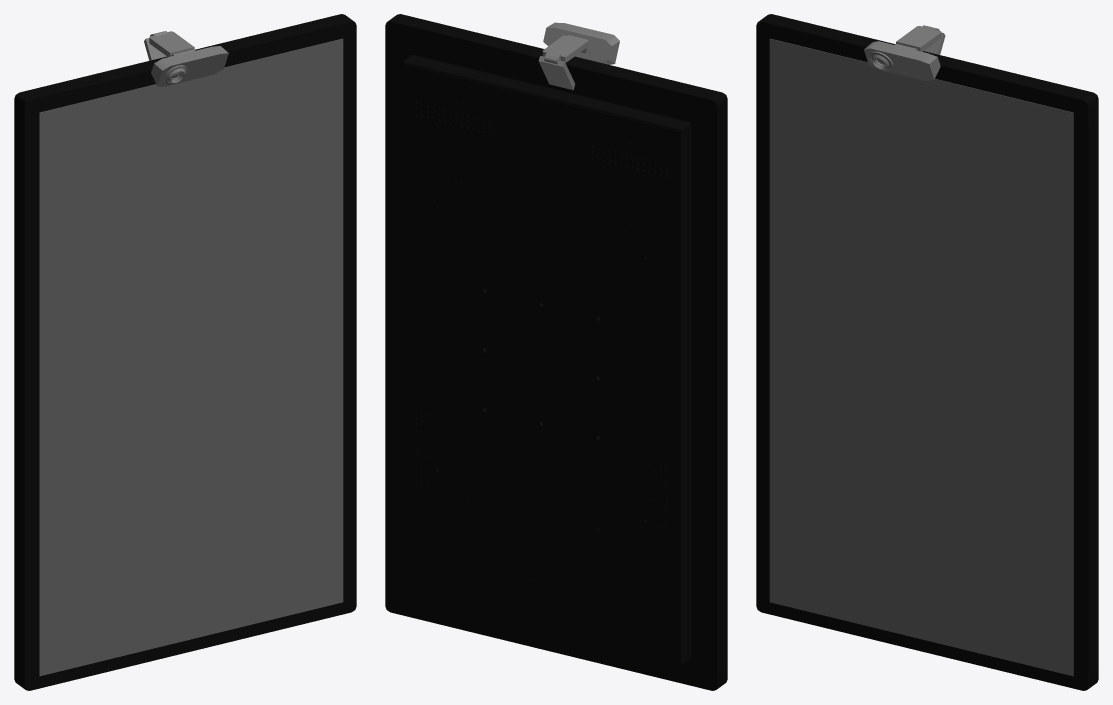
Rendered from UTC-542+camera.fbx.
3 renders of one model, left to right at view 1: azimuth 30°, elevation 25°; view 2: azimuth 150°, elevation 25°; view 3: azimuth 330°, elevation 25°, orthographic.
Parts seen in each view (by area): view 1: A, C; view 2: B, A, C; view 3: A, C.
Part boxes in pixels (x1,y1,x2,y2): A: (14,14,356,690); C: (144,31,228,86); B: (385,21,717,690); A: (387,14,727,689); C: (538,22,619,90); A: (756,14,1098,690); C: (864,25,945,80).
Size of the model in its own units: 60.89 by 106 by 12.49.
